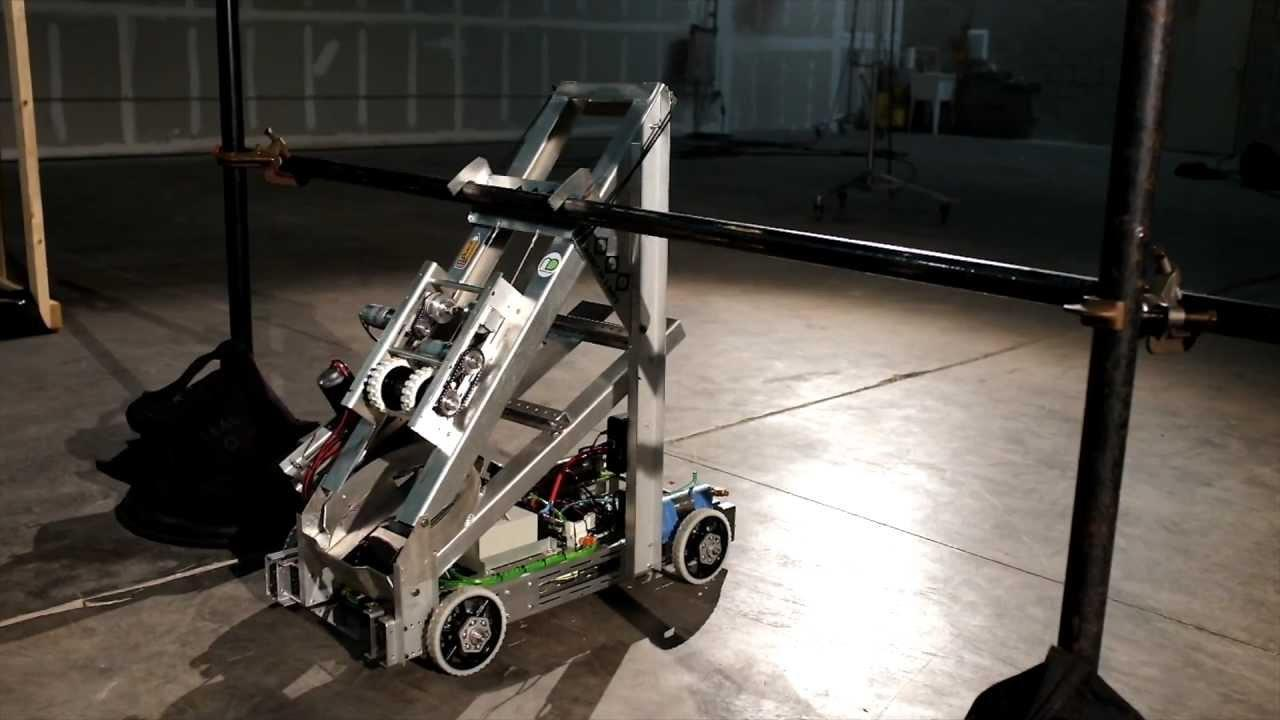robot: (268, 76, 743, 683)
